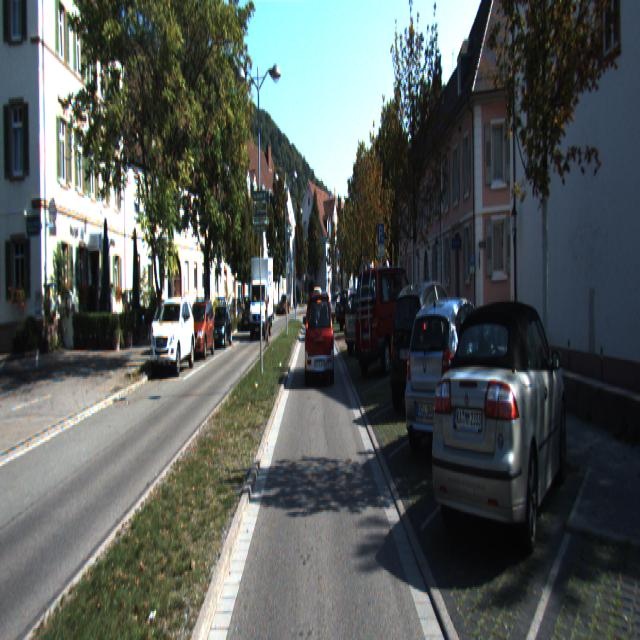Car: (432, 289, 572, 566), (399, 291, 501, 468), (389, 275, 468, 416), (352, 265, 420, 378), (151, 298, 195, 376), (345, 292, 392, 357), (306, 293, 336, 387), (247, 261, 274, 340), (184, 299, 215, 361), (150, 303, 176, 354), (335, 291, 366, 332), (209, 308, 233, 349), (242, 298, 260, 330)
